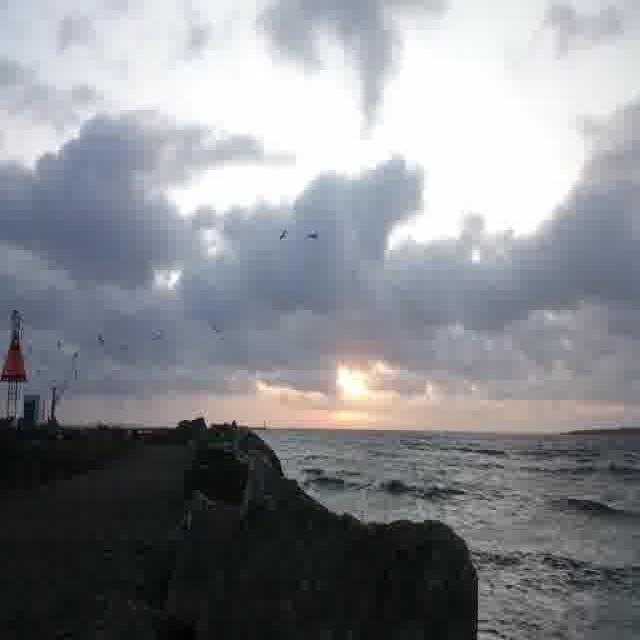bird: (92, 321, 110, 347), (118, 338, 135, 362), (210, 316, 230, 336), (152, 325, 171, 346), (305, 230, 326, 244), (276, 229, 290, 246), (35, 361, 45, 384)
